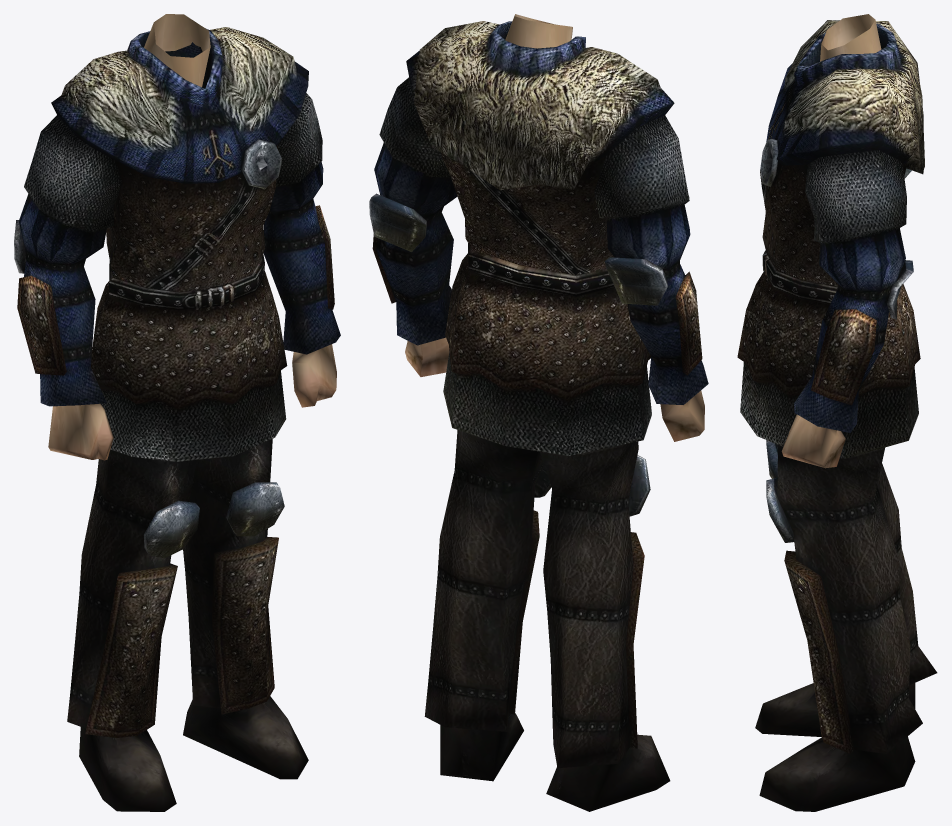
The model's file is KM_ARX_B.glb.
3 renders of one model, left to right at view 1: azimuth 30°, elevation 25°; view 2: azimuth 150°, elevation 25°; view 3: azimuth 270°, elevation 25°, orthographic. The views are drawn at different scales.
Parts seen in each view (by area): view 1: KM_ARX_B; view 2: KM_ARX_B; view 3: KM_ARX_B.
Boxes of the visible parts, x1=… form: KM_ARX_B: x1=14, y1=14, x2=340, y2=811; KM_ARX_B: x1=369, y1=14, x2=708, y2=811; KM_ARX_B: x1=737, y1=14, x2=937, y2=811.
Bounding box in the file's own units: 0.7199 × 1.7 × 0.4149.
2 materials, 2 textured.
